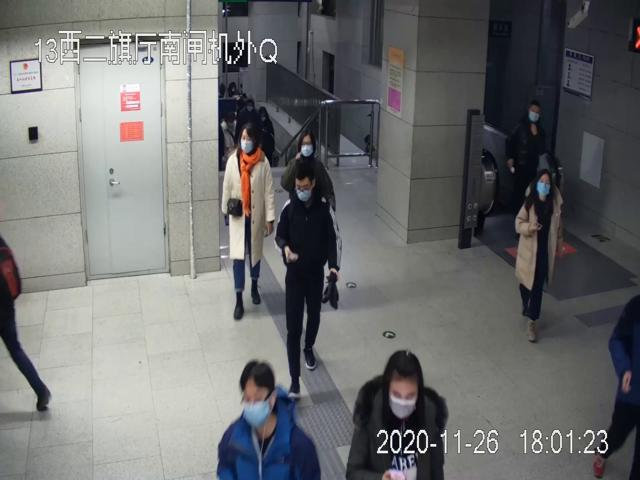person: (275, 169, 341, 402), (221, 122, 275, 316), (514, 168, 562, 342)
